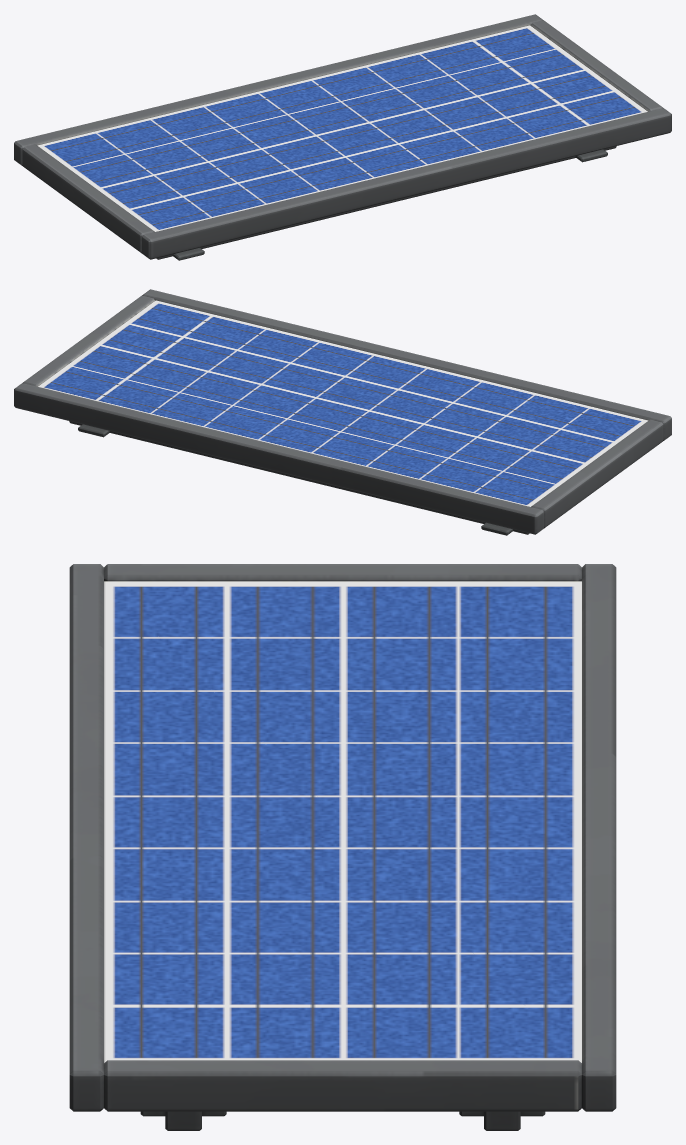
File: RenewableEnergy_SolarFlat.fbx
3 views of the same model, one above another, from view 1: azimuth 30°, elevation 25°; view 2: azimuth 150°, elevation 25°; view 3: azimuth 270°, elevation 25° (orthographic). The views are drawn at different scales.
Parts seen in each view (by area): view 1: SolarFlat; view 2: SolarFlat; view 3: SolarFlat.
Boxes of the visible parts, x1,y1,x2,y2 form: SolarFlat: (14, 14, 671, 260); SolarFlat: (14, 289, 671, 535); SolarFlat: (69, 564, 616, 1130).
Size of the model in its own units: 0.986 by 0.081 by 0.446.
